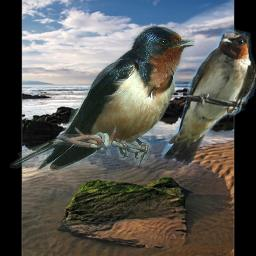Swallow: (10, 25, 195, 171), (160, 29, 256, 166)
